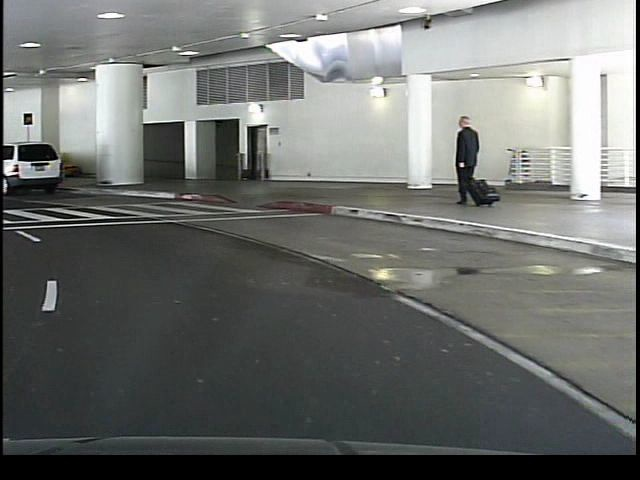person: (445, 111, 479, 208)
